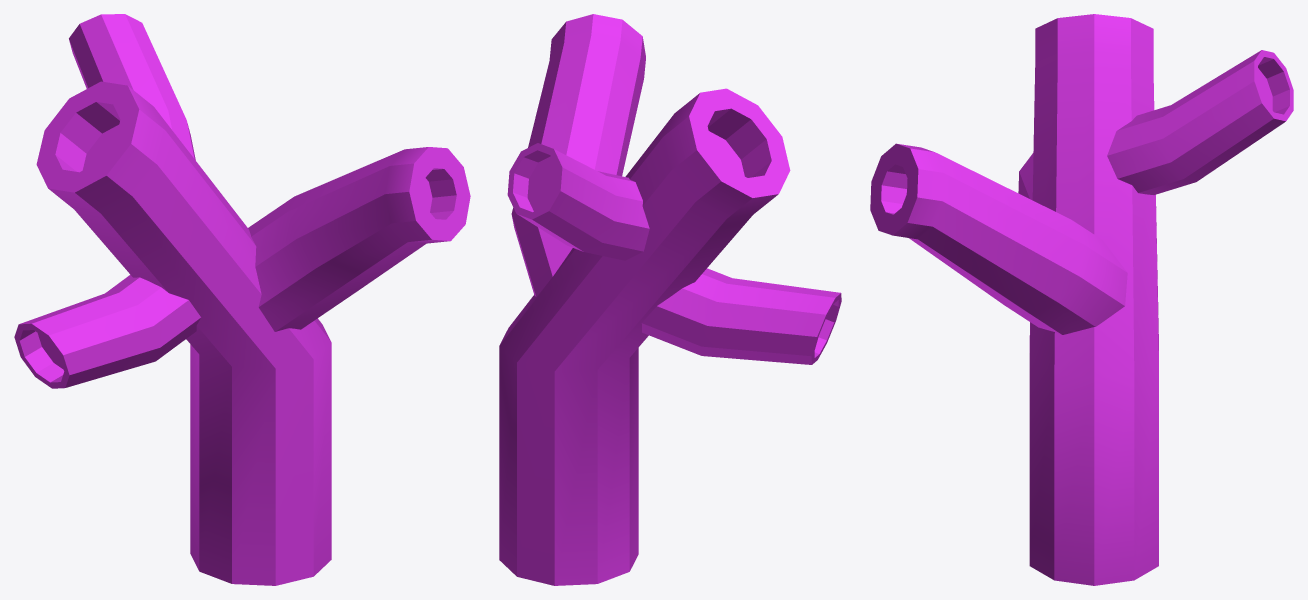
Rendered from Coral purple.fbx.
3 renders of one model, left to right at view 1: azimuth 30°, elevation 25°; view 2: azimuth 150°, elevation 25°; view 3: azimuth 270°, elevation 25°, orthographic. The views are drawn at different scales.
Parts seen in each view (by area): view 1: Coral_purple; view 2: Coral_purple; view 3: Coral_purple.
Part boxes in pixels (x1,y1,x2,y2): Coral_purple: (14,14,470,585); Coral_purple: (499,14,841,585); Coral_purple: (870,14,1293,585).
Bounding box in the file's own units: 33.86 × 44.8 × 35.72.
